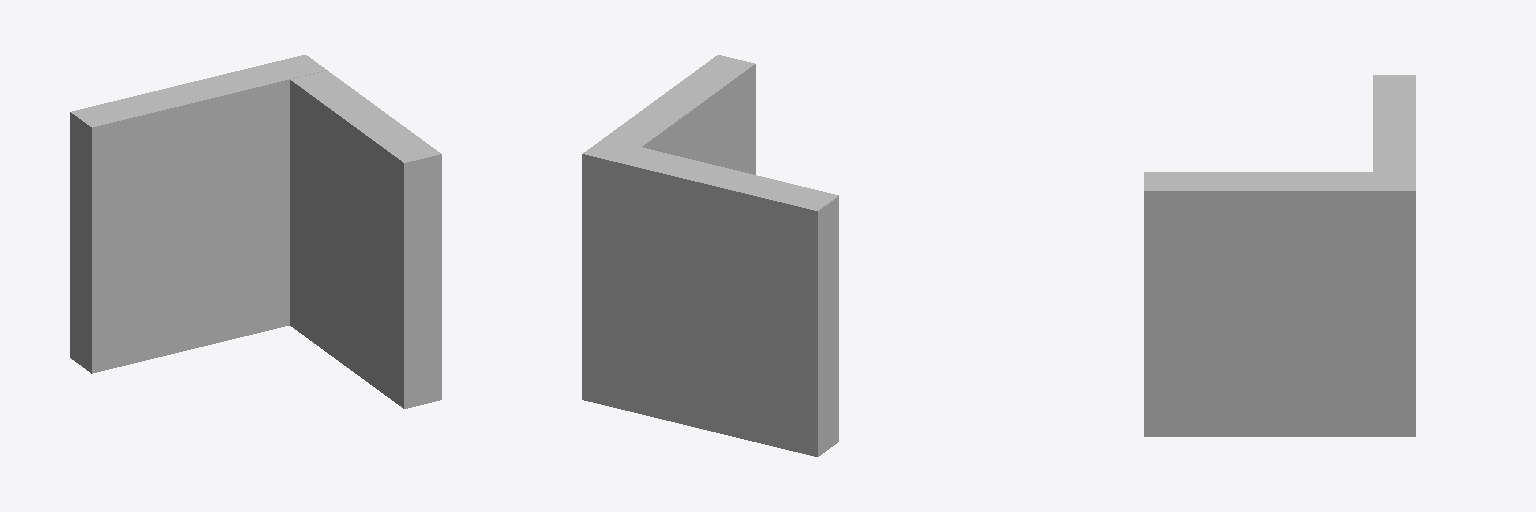
The model's file is bak.obj.
3 views of the same model, side by side, from view 1: azimuth 30°, elevation 25°; view 2: azimuth 150°, elevation 25°; view 3: azimuth 270°, elevation 25° (orthographic).
Visible parts, largest first — view 1: Cube.001, Cube; view 2: Cube.001, Cube; view 3: Cube, Cube.001.
Boxes of the visible parts, <box> form: Cube.001: <box>70,55,326,373</box>; Cube: <box>290,56,441,408</box>; Cube.001: <box>583,138,838,456</box>; Cube: <box>582,55,755,401</box>; Cube: <box>1144,172,1415,436</box>; Cube.001: <box>1373,75,1415,189</box>.
Bounding box in the file's own units: 0.8566 × 0.8554 × 0.856.